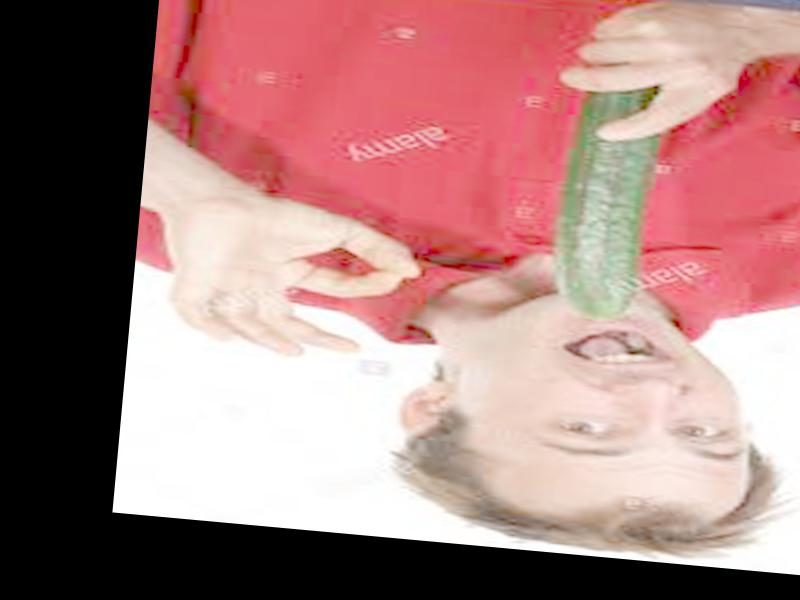Cucumber: (561, 83, 654, 320)
